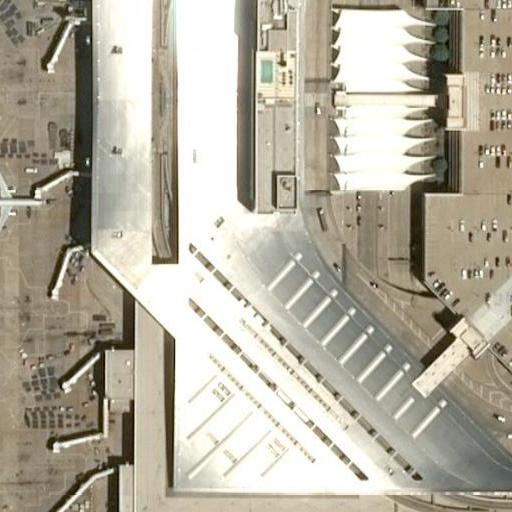Aircraft: (0, 160, 39, 233)
